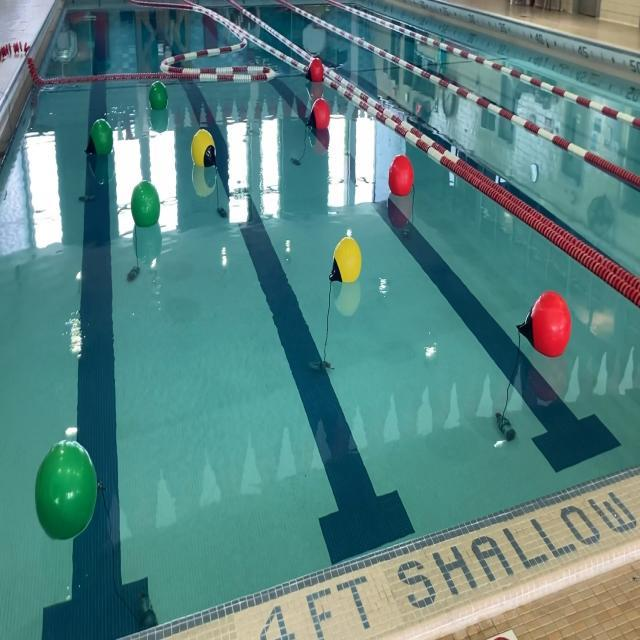buoy: (34, 438, 102, 542), (514, 288, 572, 358), (327, 235, 362, 287), (130, 180, 162, 228), (386, 152, 414, 198), (86, 116, 113, 158), (189, 127, 216, 168), (304, 96, 331, 132), (147, 80, 170, 112), (304, 56, 325, 86)
